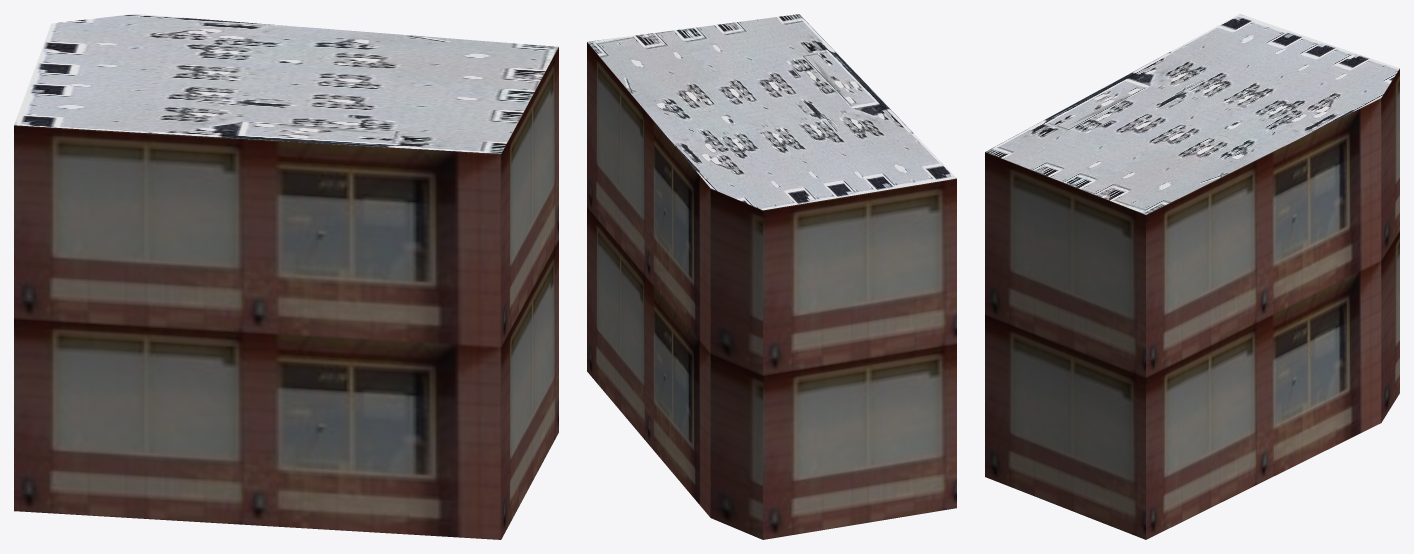
Rendered from ResTex__3762.fbx.
3 renders of one model, left to right at view 1: azimuth 30°, elevation 25°; view 2: azimuth 150°, elevation 25°; view 3: azimuth 270°, elevation 25°, orthographic. The views are drawn at different scales.
Parts seen in each view (by area): view 1: CityEngineMaterial_13_m, CityEngineMaterial_8_m; view 2: CityEngineMaterial_13_m, CityEngineMaterial_8_m; view 3: CityEngineMaterial_13_m, CityEngineMaterial_8_m.
Boxes of the visible parts, box(x1,y1,x2,y2) form: CityEngineMaterial_13_m: box(14, 47, 558, 539); CityEngineMaterial_8_m: box(14, 14, 558, 153); CityEngineMaterial_13_m: box(587, 42, 956, 539); CityEngineMaterial_8_m: box(587, 14, 956, 210); CityEngineMaterial_13_m: box(985, 68, 1399, 539); CityEngineMaterial_8_m: box(985, 14, 1399, 214).
Size of the model in its own units: 7.96 by 6 by 6.94.
2 materials, 2 textured.
